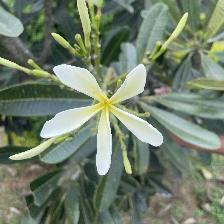champaka: (39, 62, 166, 178)
